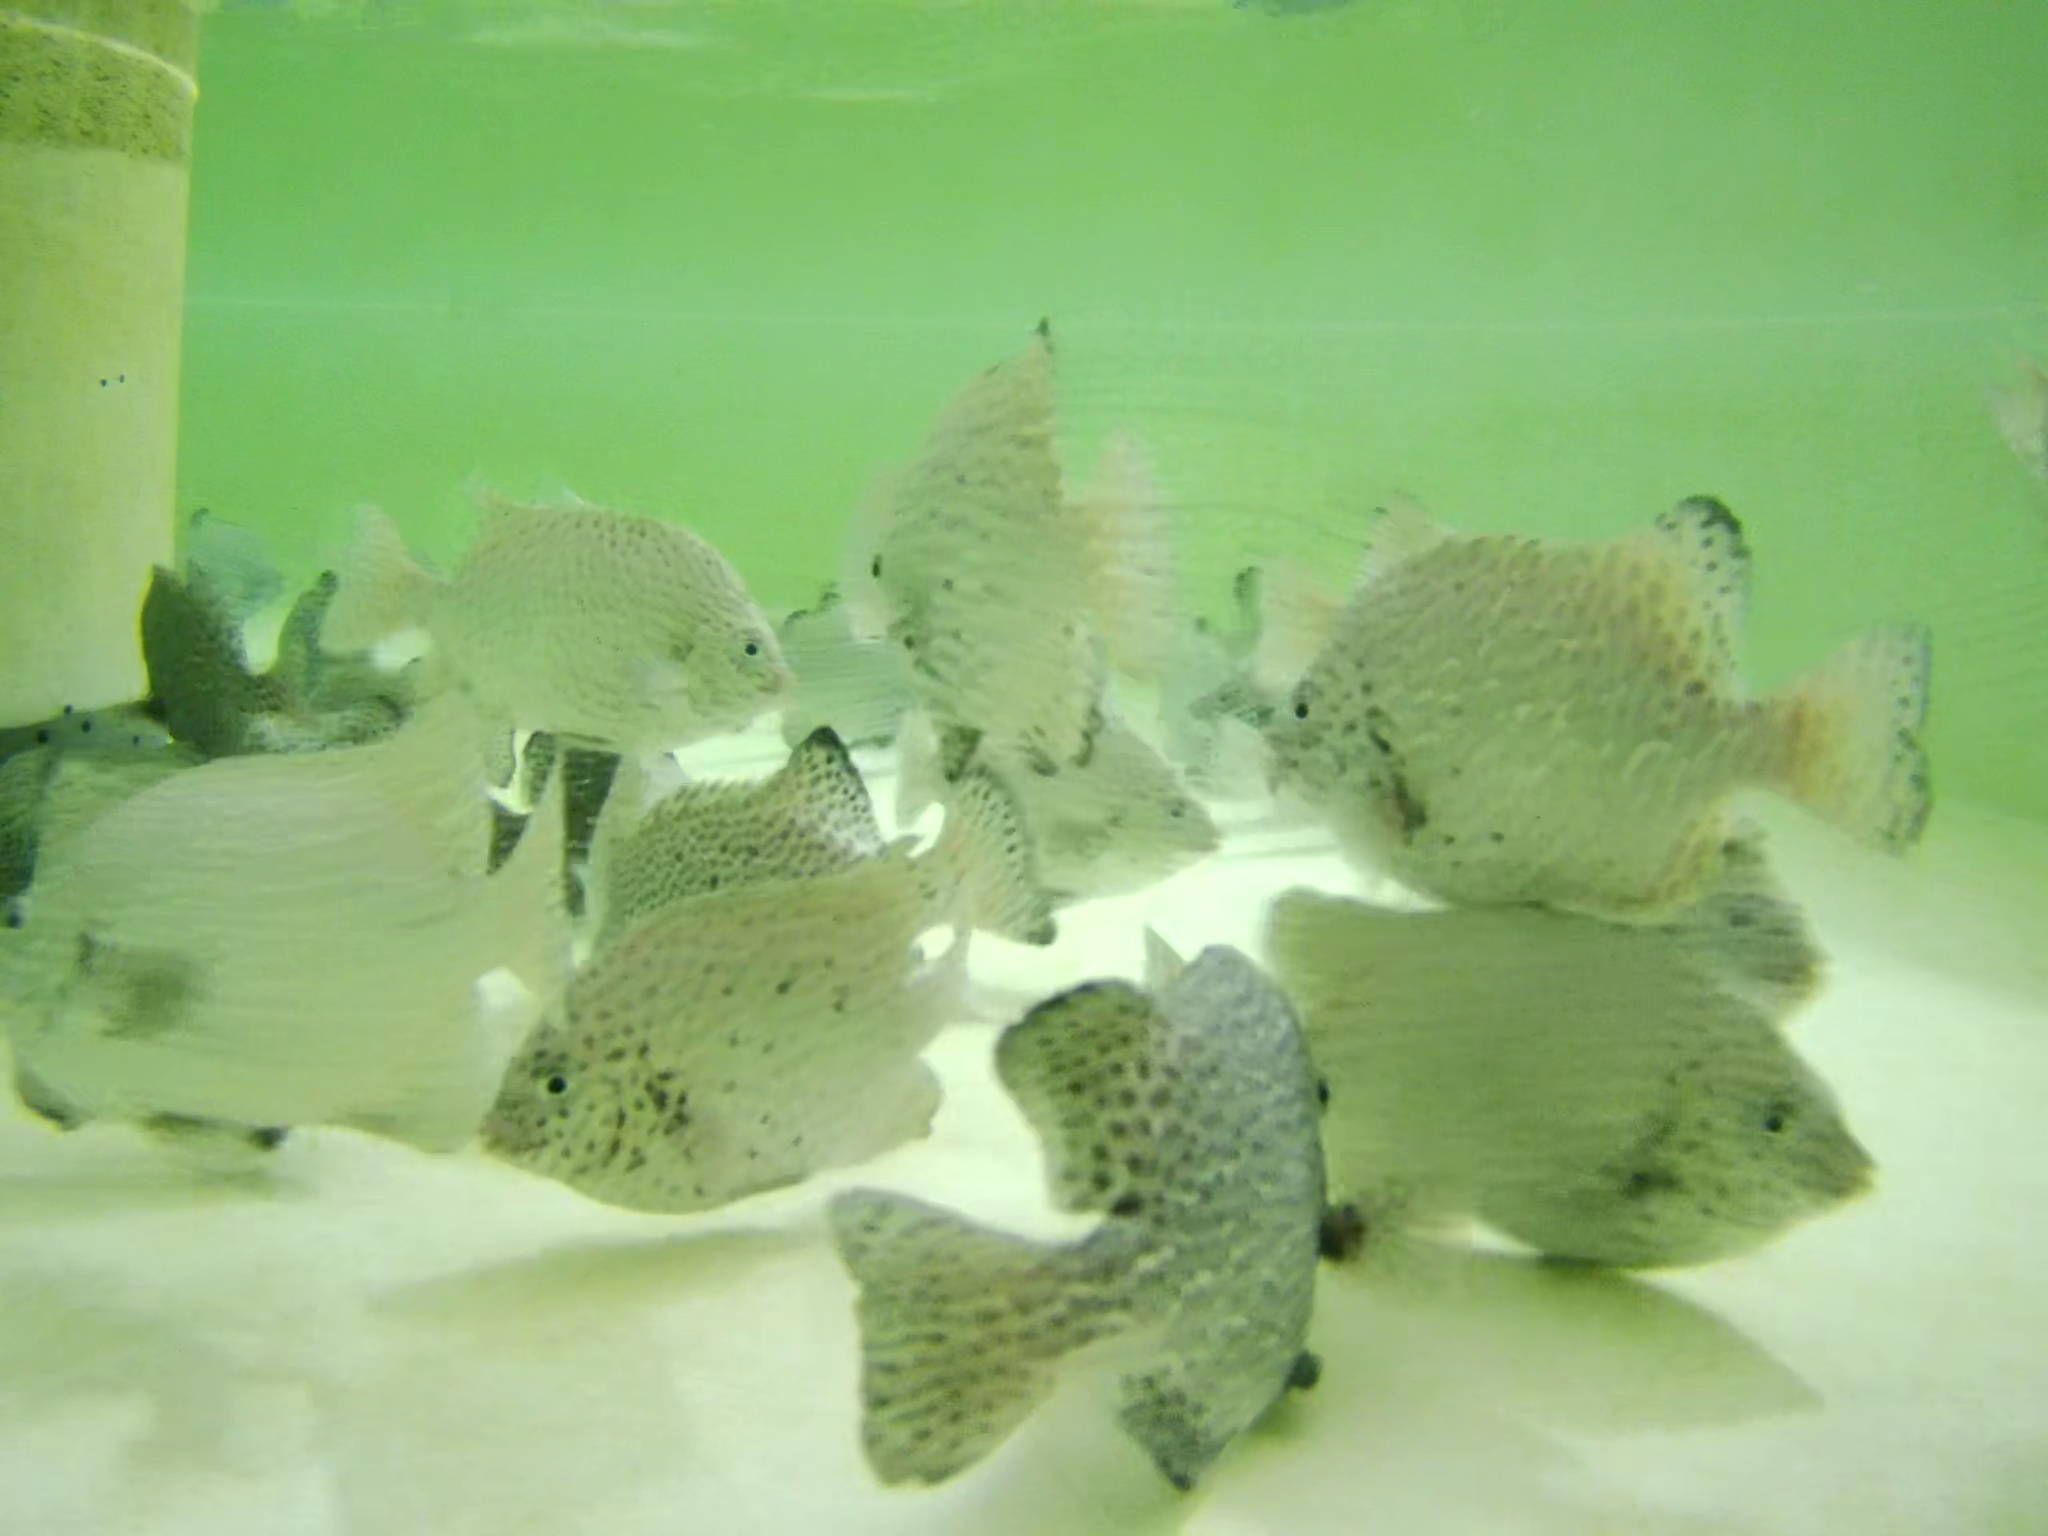fish: (1209, 849, 1875, 1317), (1256, 500, 1975, 900), (863, 941, 1329, 1483), (8, 720, 555, 1181), (487, 791, 1055, 1204), (889, 371, 1271, 763), (348, 478, 819, 745), (590, 745, 951, 991), (1506, 836, 1856, 1029), (927, 695, 1238, 907)
